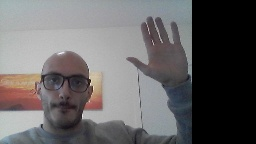Mano_aperta: (123, 13, 191, 87)
